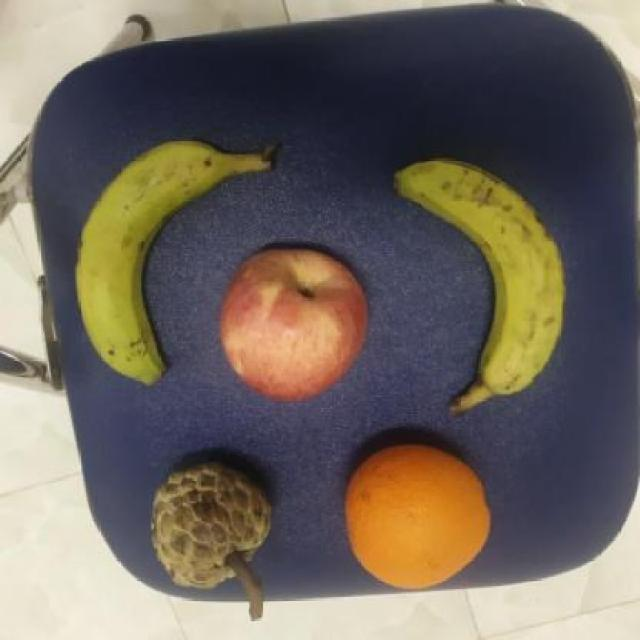apple: (212, 241, 372, 404)
banana: (66, 132, 286, 386), (391, 156, 567, 416)
oren: (345, 442, 492, 592)
sugar apple: (143, 459, 274, 593)
